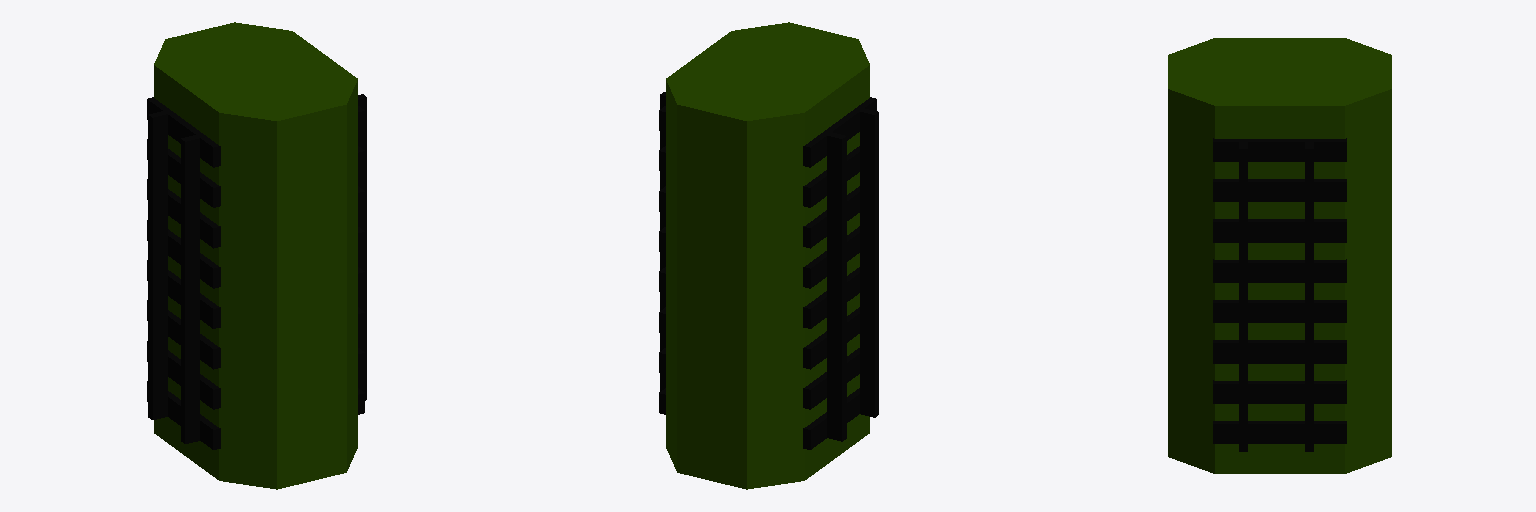
File: mag2.model.obj
3 views of the same model, side by side, from view 1: azimuth 30°, elevation 25°; view 2: azimuth 150°, elevation 25°; view 3: azimuth 270°, elevation 25° (orthographic).
Bounding box in the file's own units: 0.315 × 0.6084 × 0.336.